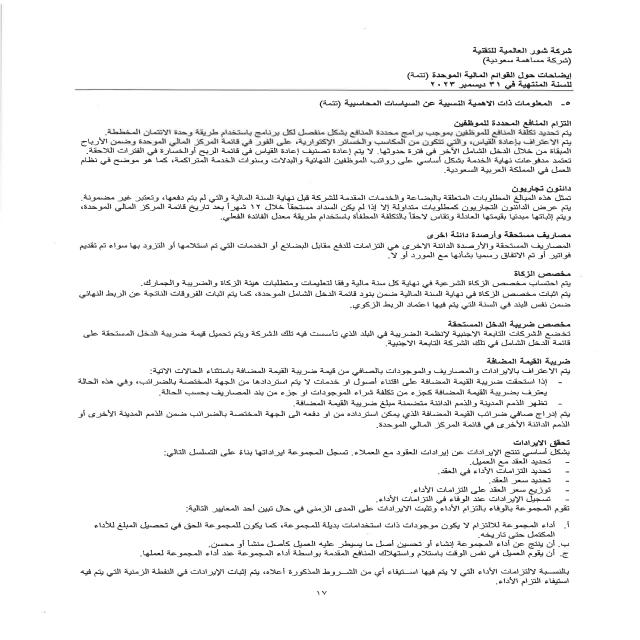notes: (394, 72, 574, 80)
text: (54, 116, 590, 588)
